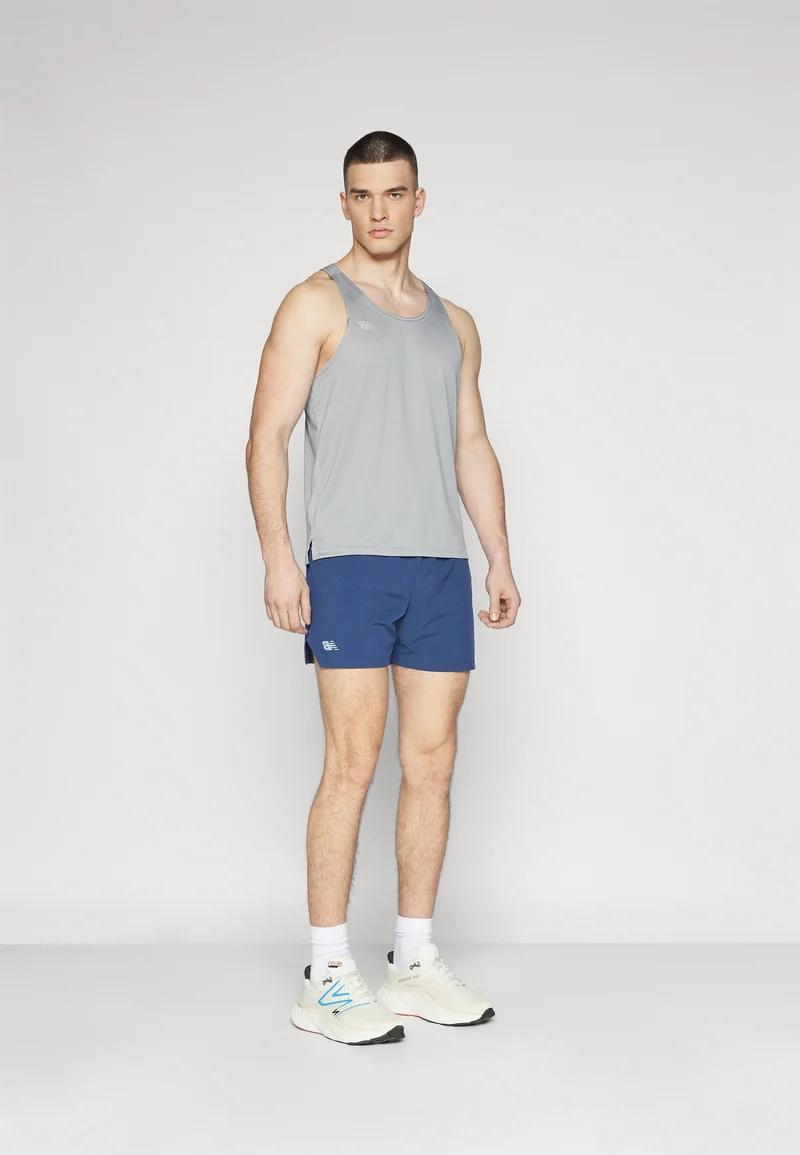Shorts: (296, 549, 478, 677)
vest: (299, 259, 471, 564)
